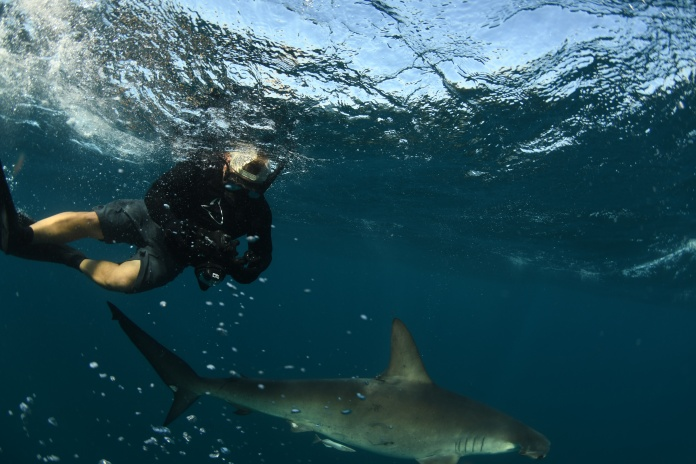Hammer: (88, 285, 579, 464)
